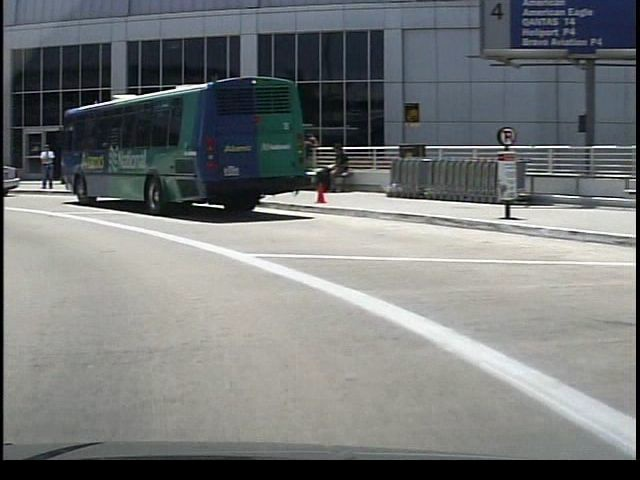person: (315, 141, 346, 198), (34, 142, 52, 193)
